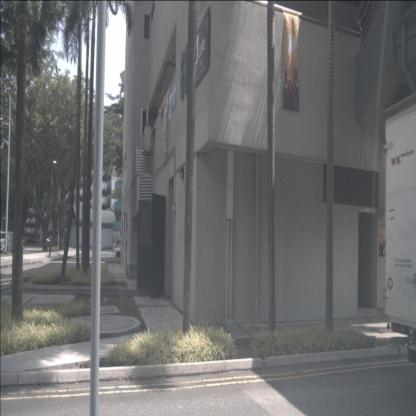vehicle-car: (113, 236, 137, 256), (113, 242, 137, 260), (0, 230, 14, 253), (39, 237, 51, 247), (94, 240, 103, 252)
